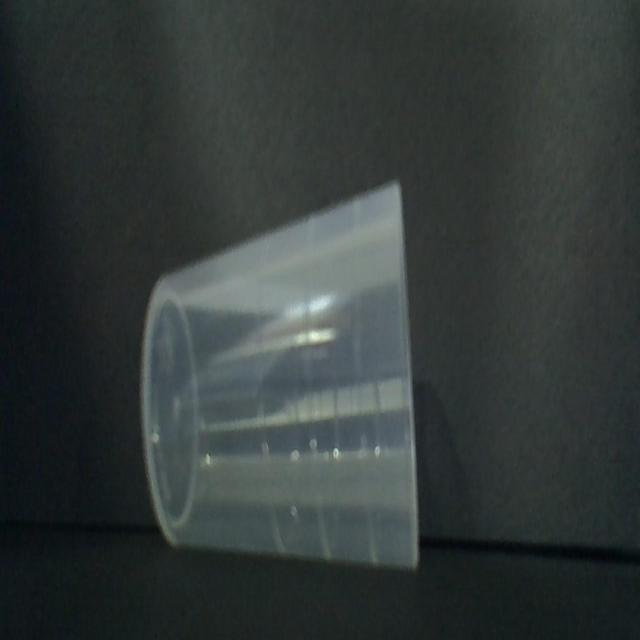cup: (136, 169, 435, 579)
